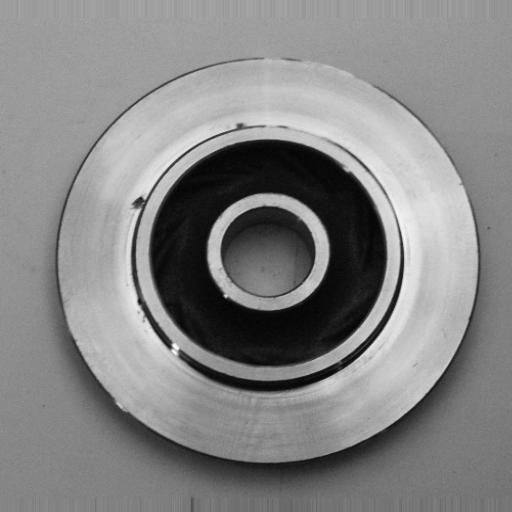crack: (130, 285, 157, 331), (119, 190, 155, 215), (222, 114, 261, 137)
scratch: (258, 50, 364, 84), (164, 332, 190, 366)
unpolished_casting: (54, 56, 481, 469)
